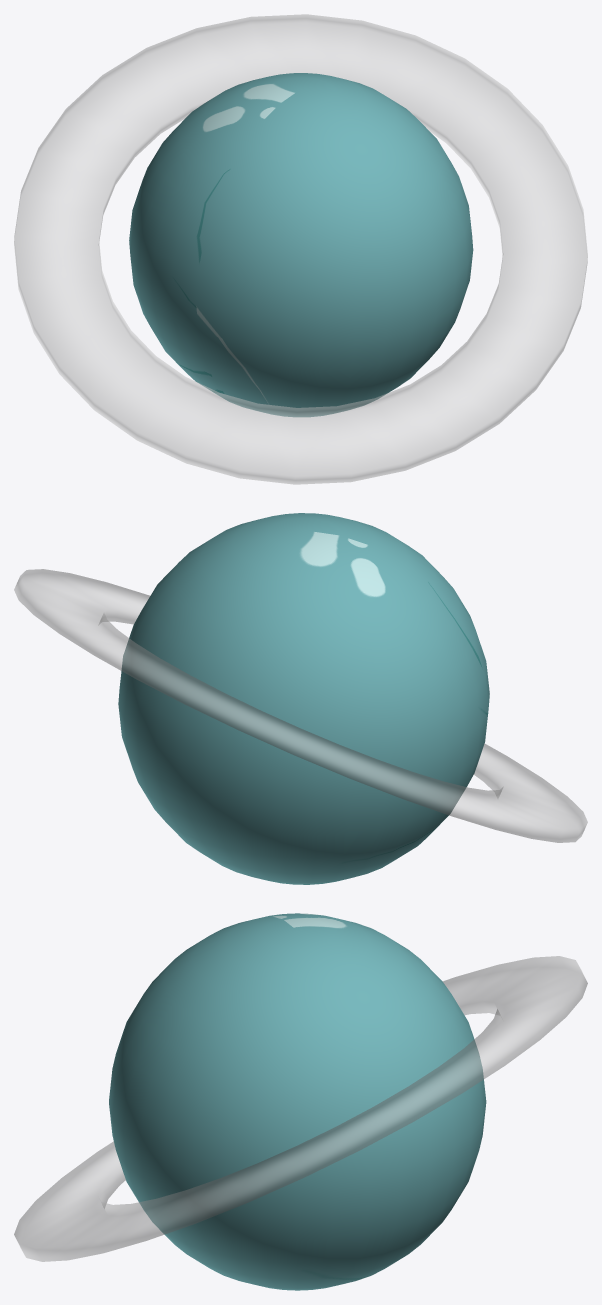
The model's file is saturn planet.fbx.
3 renders of one model, top to bottom at view 1: azimuth 30°, elevation 25°; view 2: azimuth 150°, elevation 25°; view 3: azimuth 270°, elevation 25°, orthographic. The views are drawn at different scales.
Parts seen in each view (by area): view 1: Sphere.001, Sphere; view 2: Sphere, Sphere.001; view 3: Sphere, Sphere.001.
Part boxes in pixels (x1=…): Sphere.001: x1=14, y1=14, x2=587, y2=484; Sphere: x1=129, y1=73, x2=473, y2=417; Sphere: x1=118, y1=513, x2=489, y2=884; Sphere.001: x1=14, y1=569, x2=587, y2=842; Sphere: x1=109, y1=913, x2=486, y2=1290; Sphere.001: x1=14, y1=956, x2=587, y2=1261.
Size of the model in its own units: 326 by 200 by 304.
Materials: 2 (1 with a texture image).
